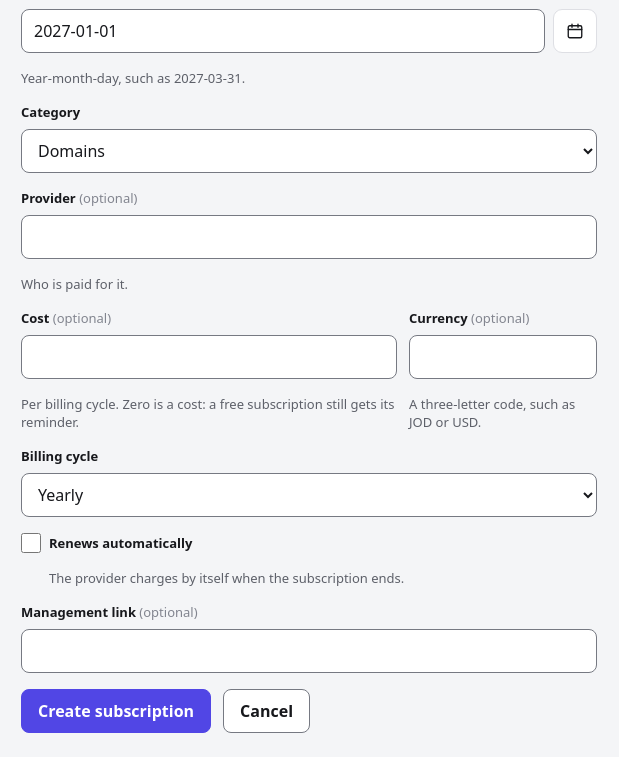
creating a subscription › shows a refusal by its code, and stays
The width and height of the screenshot is (619, 757).
(page scrolled)
Click the button "Create subscription": (116,711) x1=21 y1=689 x2=211 y2=733
(page scrolled)
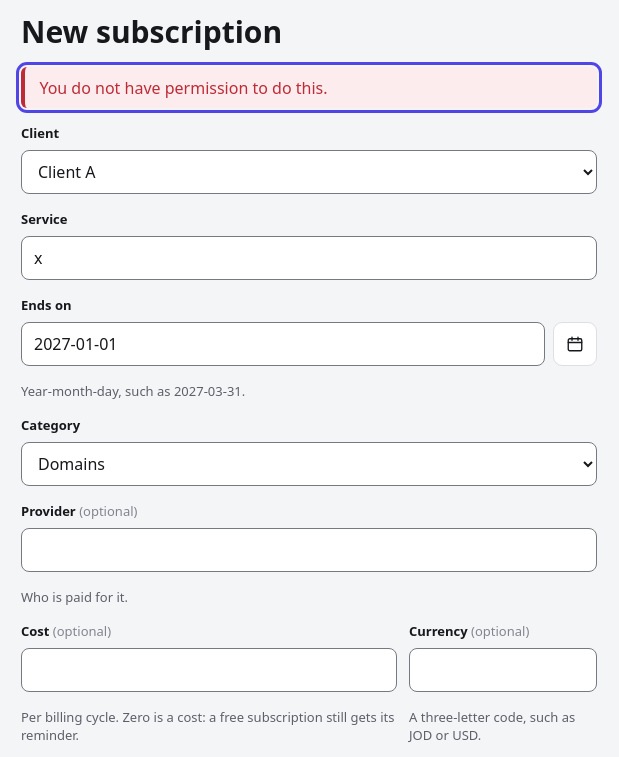
Expected: the message reads "You do not have permission to do this.", x1=39 y1=77 x2=328 y2=99
